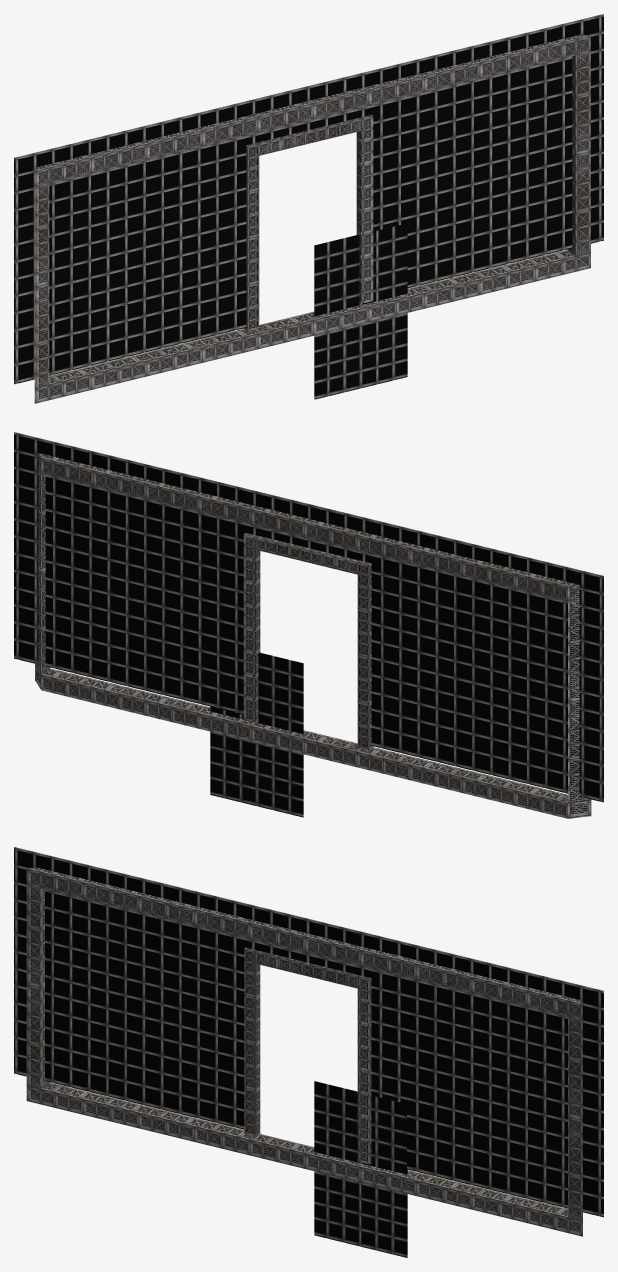
File: cage_door.glb
3 renders of one model, top to bottom at view 1: azimuth 30°, elevation 25°; view 2: azimuth 150°, elevation 25°; view 3: azimuth 330°, elevation 25°, orthographic.
Parts seen in each view (by area): view 1: cage_door; view 2: cage_door; view 3: cage_door.
Boxes of the visible parts, x1,y1,x2,y2 form: cage_door: [14, 14, 603, 403]; cage_door: [14, 432, 603, 818]; cage_door: [14, 847, 603, 1257].
Size of the model in its own units: 168 by 85.87 by 4.28.
4 materials, 4 textured.
